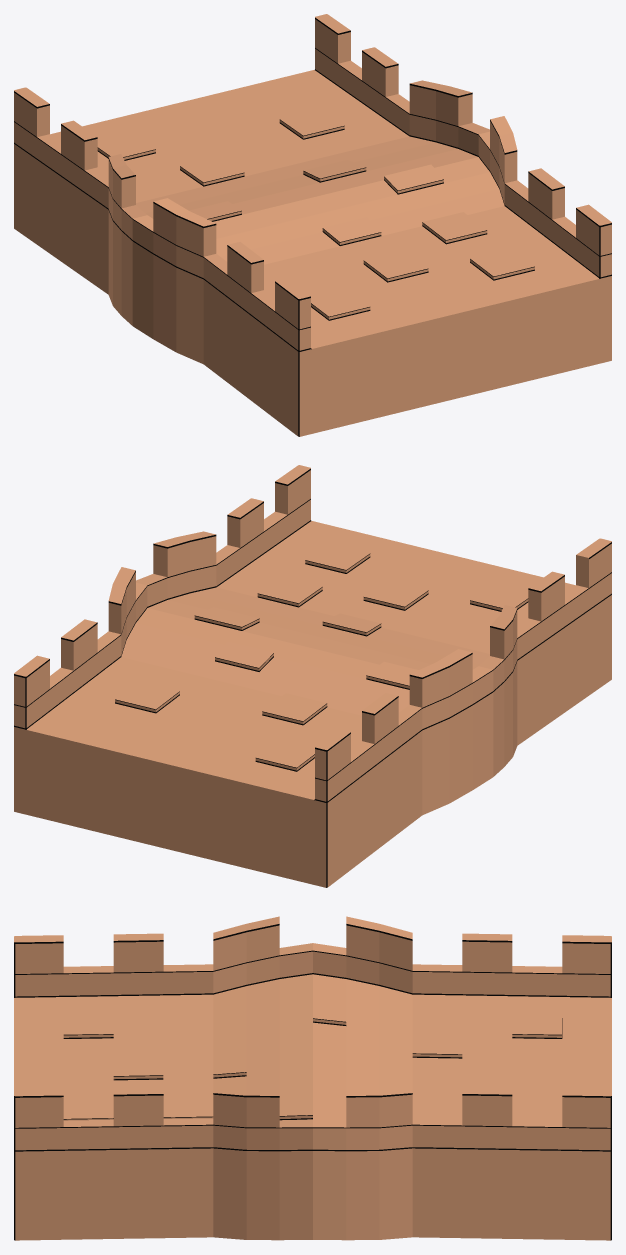
The model's file is CastleBridge.fbx.
3 renders of one model, top to bottom at view 1: azimuth 30°, elevation 25°; view 2: azimuth 150°, elevation 25°; view 3: azimuth 270°, elevation 25°, orthographic. The views are drawn at different scales.
Parts seen in each view (by area): view 1: Cube.044; view 2: Cube.044; view 3: Cube.044.
Boxes of the visible parts, box(x1,y1,x2,y2) form: Cube.044: box(14, 14, 611, 436); Cube.044: box(14, 465, 611, 887); Cube.044: box(14, 916, 611, 1240).
Size of the model in its own units: 774 by 302 by 1062.
